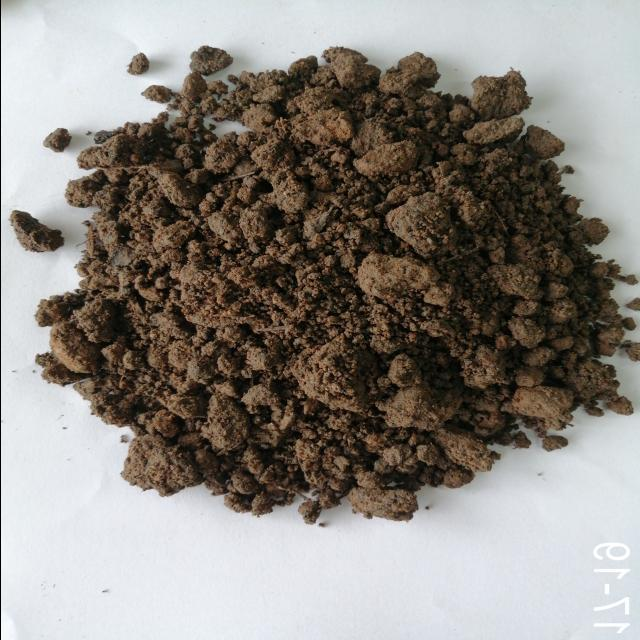soil: (147, 152, 513, 408)
